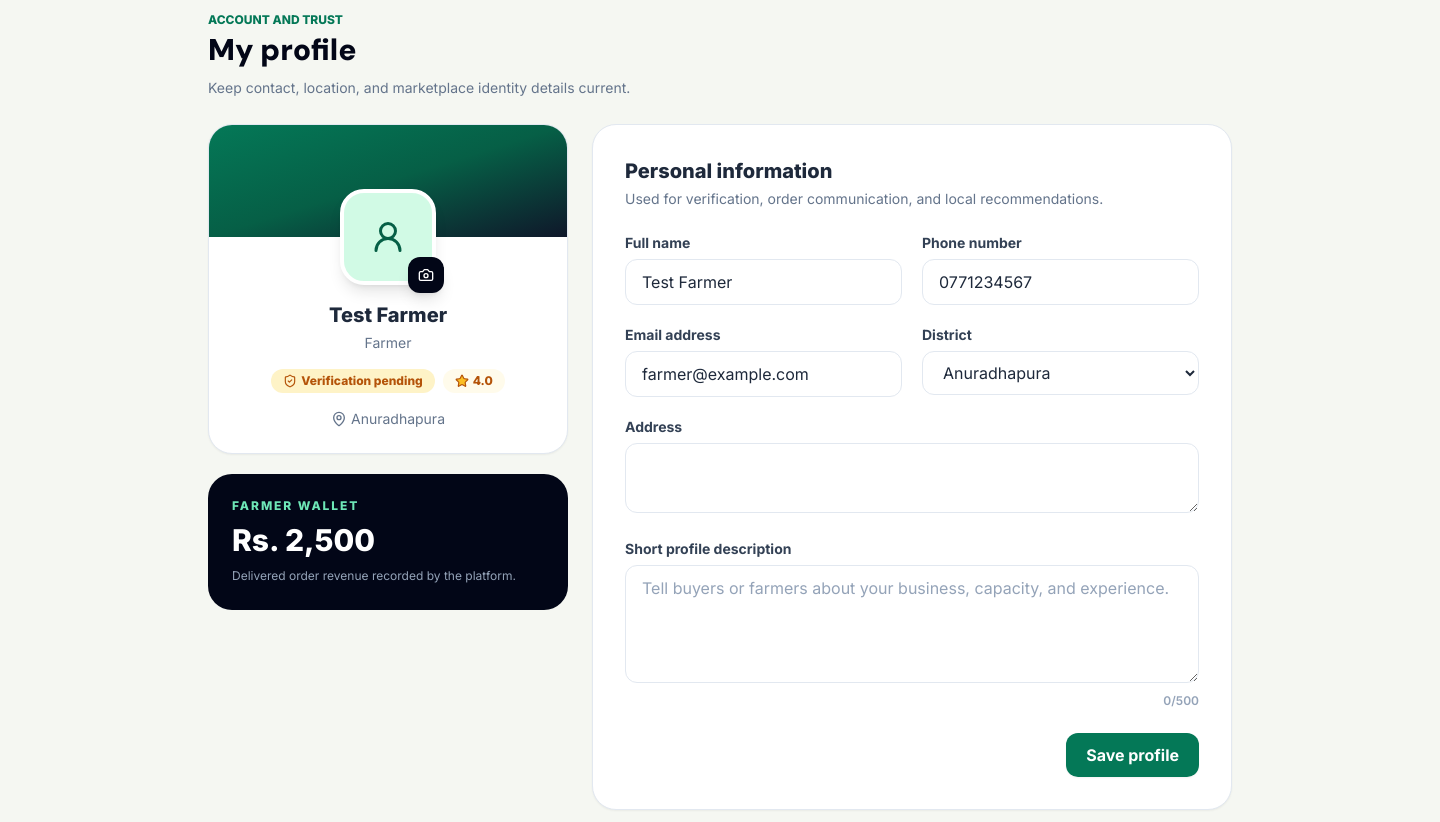
Scenario: ProfilePage › shows a numbers-only error as letters are typed in the phone field
The image size is (1440, 822).
Type "077abc" into the field labelled "Phone number" at point(1060, 282), box top-left (922, 259), bottom-right (1199, 305)
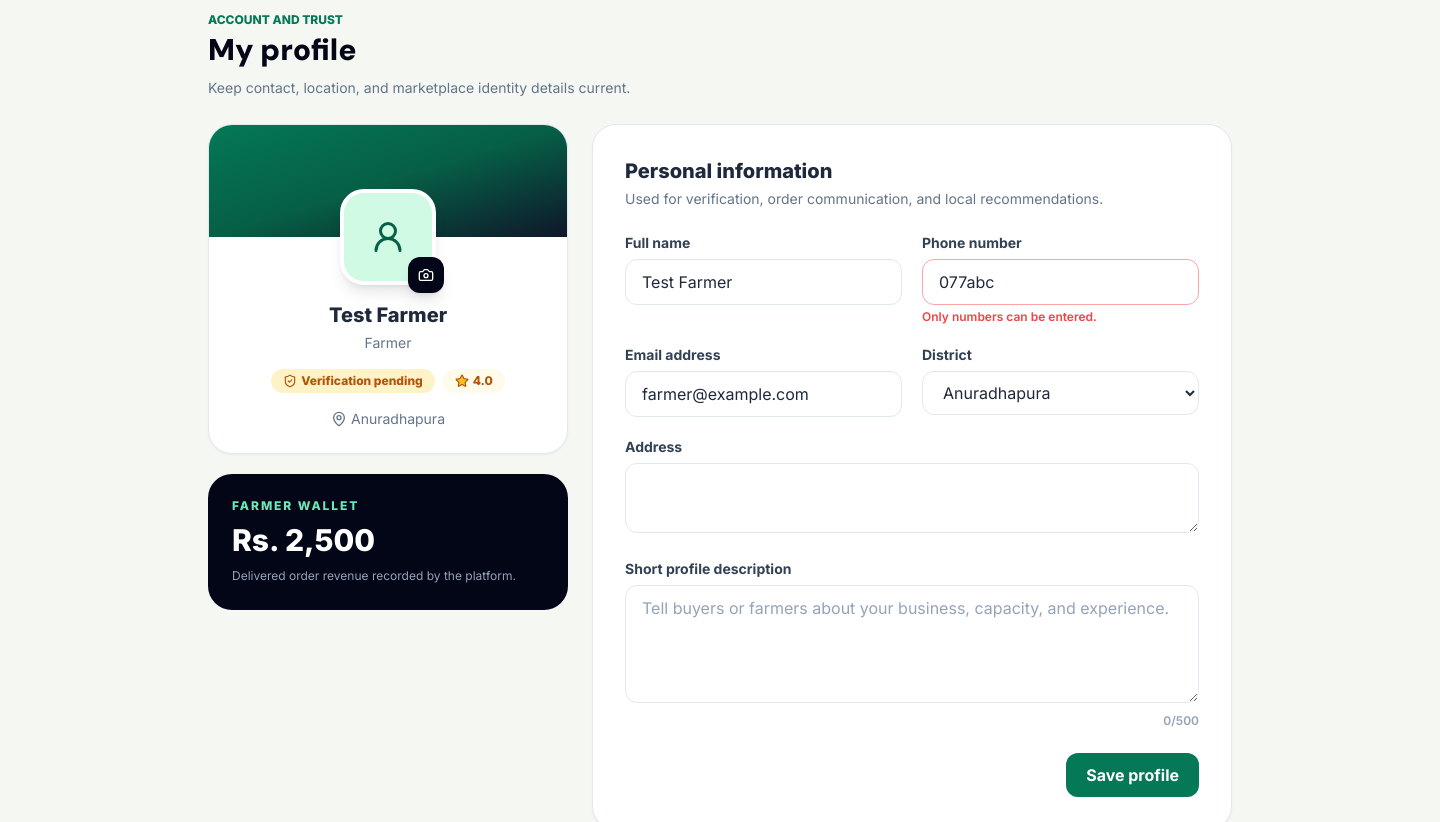
Expected: the text "Only numbers can be entered." is shown, top-left (922, 309), bottom-right (1097, 324)
